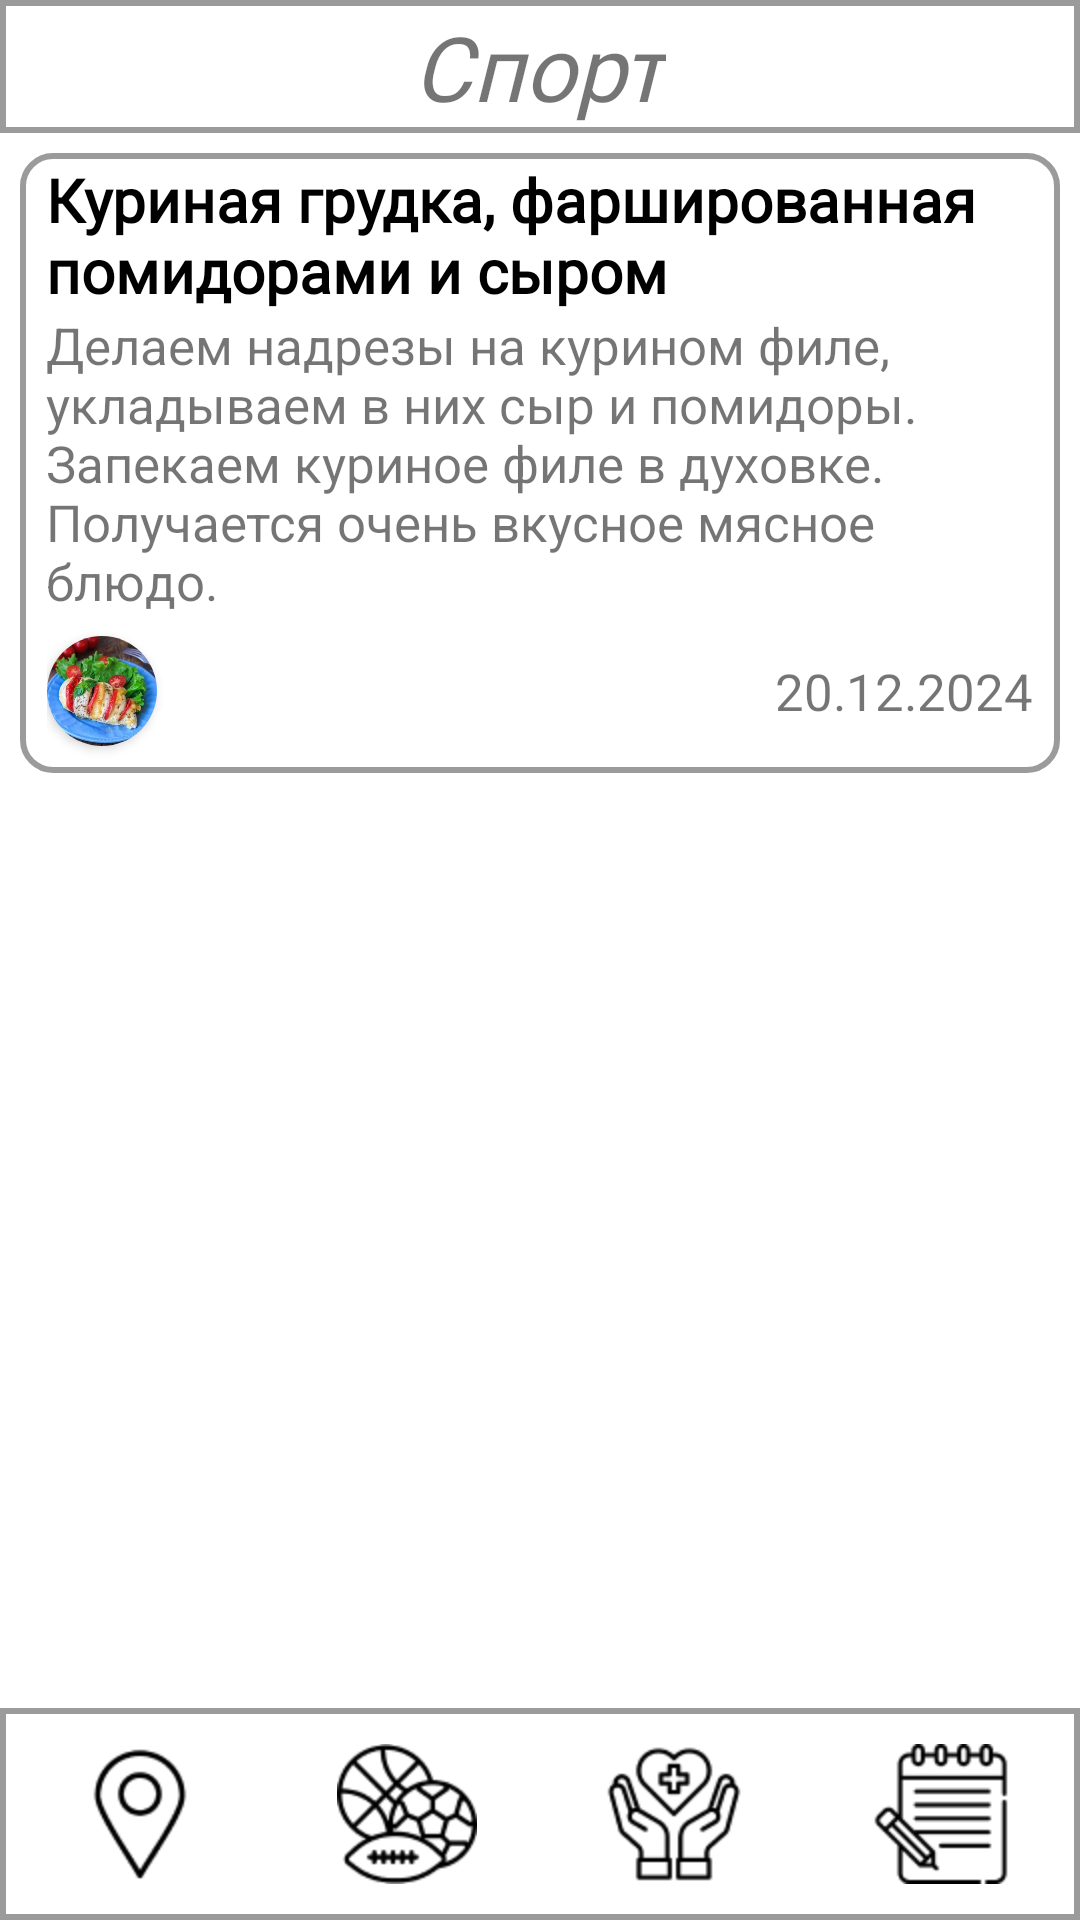

Icons on this 1080*1920 Android screen, each with its box as box=[x1, y1, x2, y2]:
Добавить заметку: box=[807, 1714, 1074, 1914]
Здоровье: box=[607, 1747, 741, 1881]
Карта магазинов: box=[6, 1714, 273, 1914]
Куриная грудка, фаршированная помидорами и сыром: box=[47, 636, 157, 746]
Спорт: box=[337, 1744, 477, 1884]
